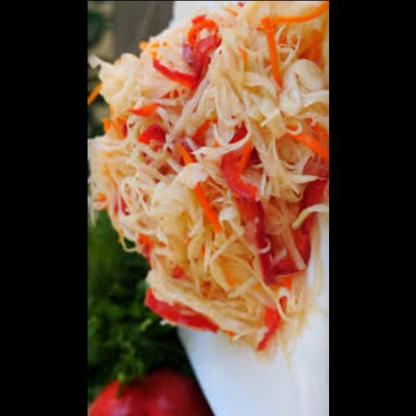cabbage: (184, 14, 328, 131), (114, 163, 227, 306), (213, 264, 302, 353), (96, 32, 178, 124), (246, 123, 303, 199), (87, 117, 130, 211)
carrot: (219, 134, 268, 262), (256, 1, 280, 84), (272, 5, 327, 26)
hot pepper: (151, 12, 224, 99), (288, 173, 326, 254), (140, 297, 212, 330), (134, 125, 162, 149)
